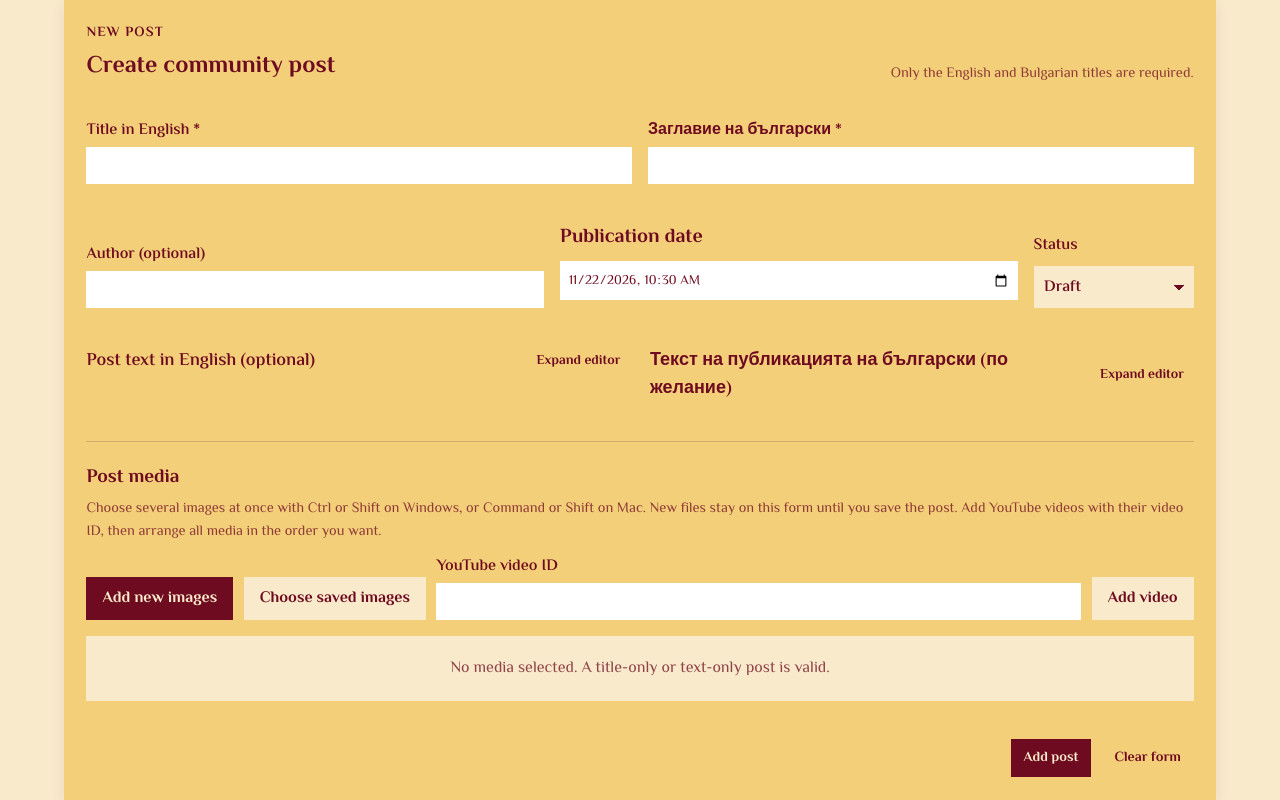
Scenario: CommunityNewsPostForm › requires both titles
Click the button "Add post". click: (1051, 758)
box: x1=1011 y1=739 x2=1091 y2=777
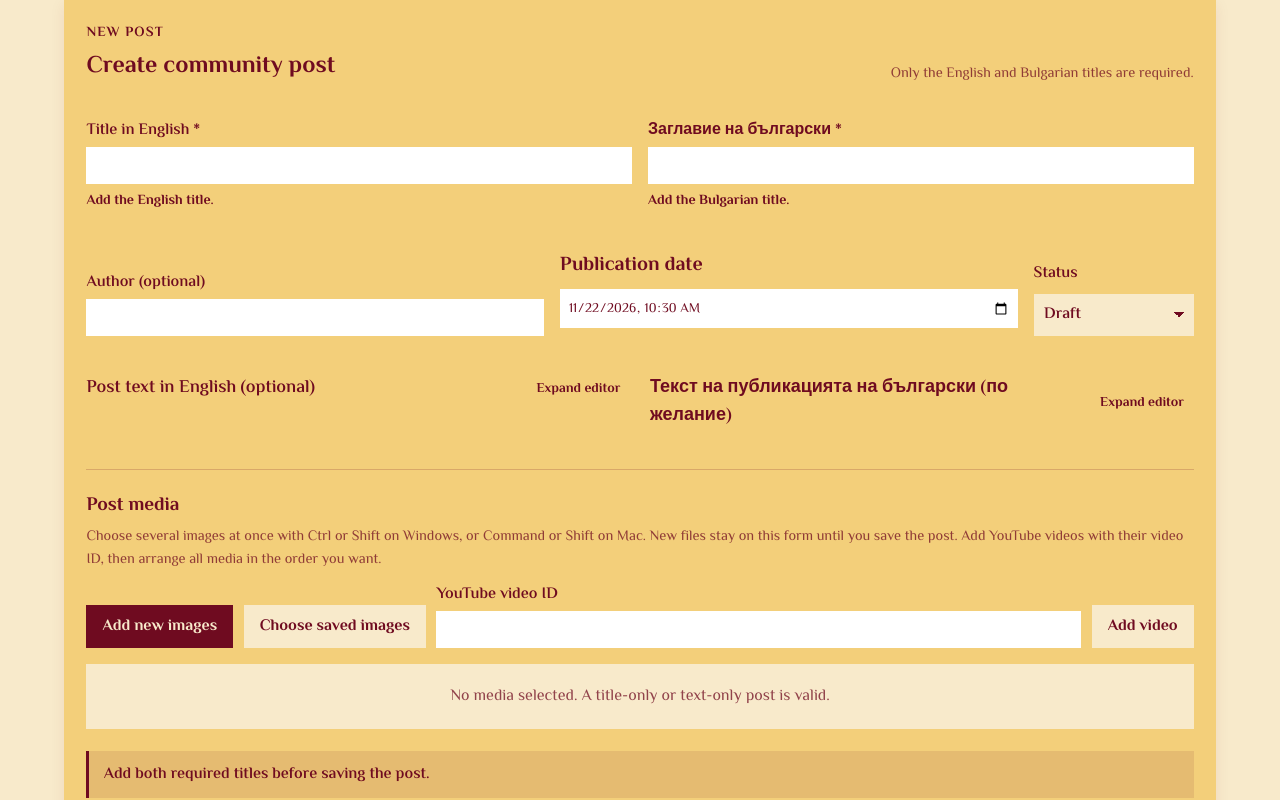
Expected: the text "Add the English title." is shown, x1=86 y1=190 x2=214 y2=212
Expected: the text "Add the Bulgarian title." is shown, x1=648 y1=190 x2=789 y2=212
